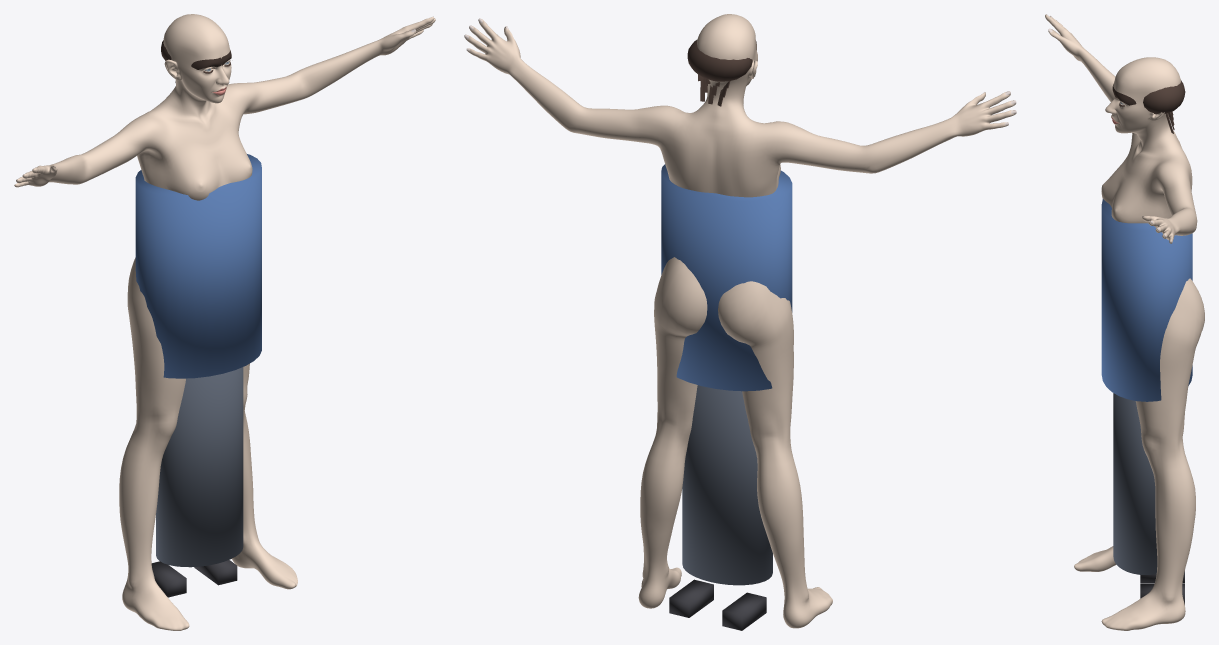
Rendered from hm_ped_rae_v12.glb.
The picture shows the model from 3 angles, left to right: view 1: azimuth 30°, elevation 25°; view 2: azimuth 150°, elevation 25°; view 3: azimuth 270°, elevation 25°; orthographic projection. The views are drawn at different scales.
Parts seen in each view (by area): view 1: hm_ped_rae; view 2: hm_ped_rae; view 3: hm_ped_rae.
Part boxes in pixels (x1,y1,x2,y2): hm_ped_rae: (14,14,435,630); hm_ped_rae: (464,14,1016,630); hm_ped_rae: (1045,14,1204,630).
Bounding box in the file's own units: 1.49 × 1.72 × 0.4668.
